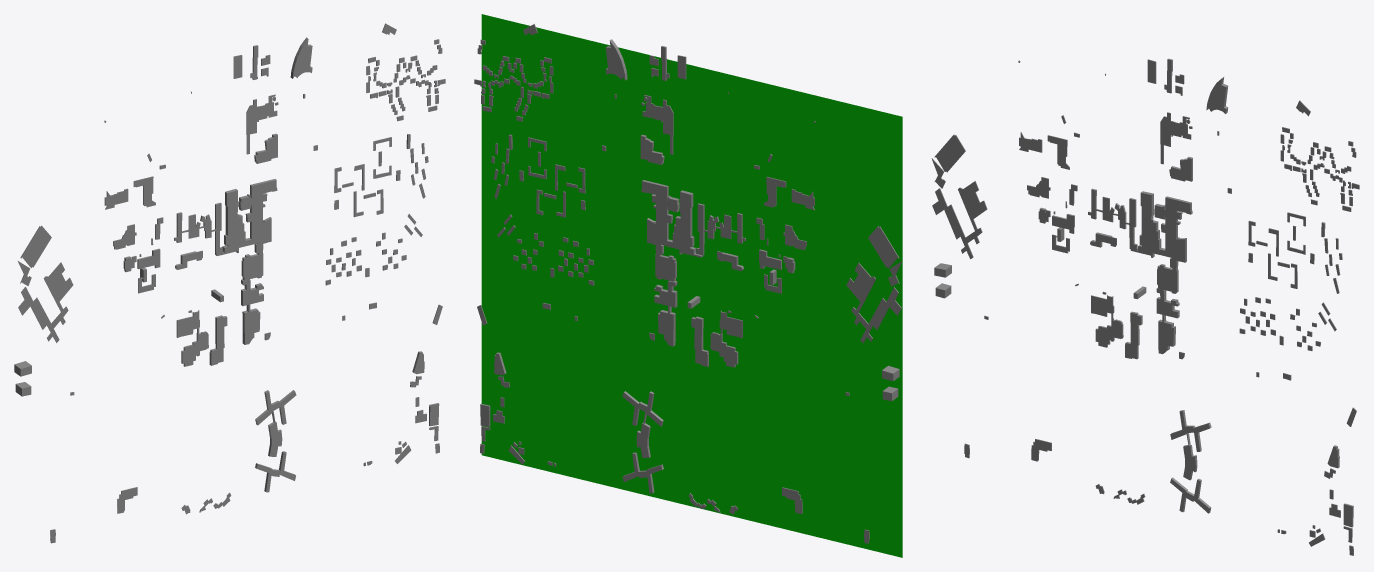
File: combined.glb
The picture shows the model from 3 angles, left to right: view 1: azimuth 30°, elevation 25°; view 2: azimuth 150°, elevation 25°; view 3: azimuth 330°, elevation 25°; orthographic projection.
Visible parts, largest first — view 1: world; view 2: world; view 3: world.
Part boxes in pixels (box(x1,y1,x2,y2)): world: box(14, 23, 445, 543); world: box(474, 14, 902, 557); world: box(931, 58, 1359, 555).
Bounding box in the file's own units: 1386 × 1403 × 50.3.
